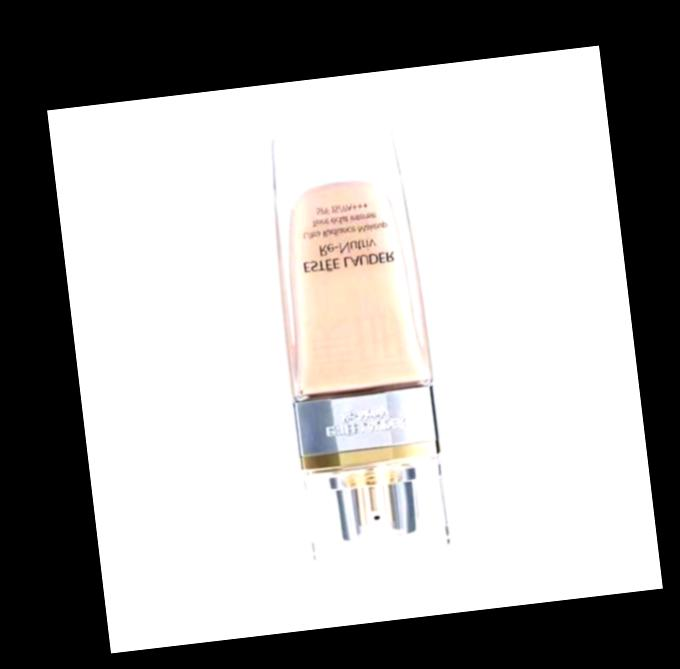cosmetic: (262, 121, 448, 561)
